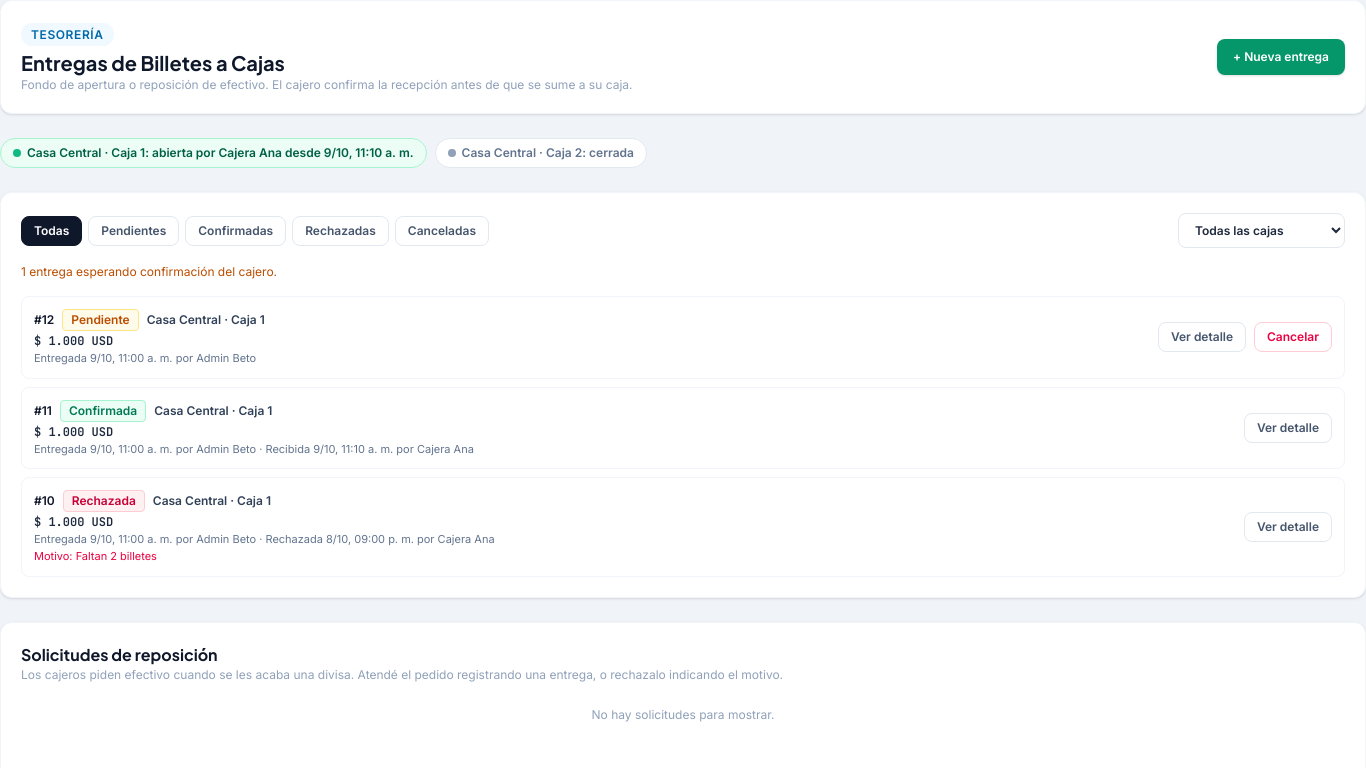
it: CashDeliveries (PI-43) › avisa que hay una moneda activa sin billetes registrados
Expected: the text "#12" is shown, [34,312,54,328]
Click the button "+ Nueva entrega". click: coordinates (1281, 57)
box: [1217,39,1345,75]
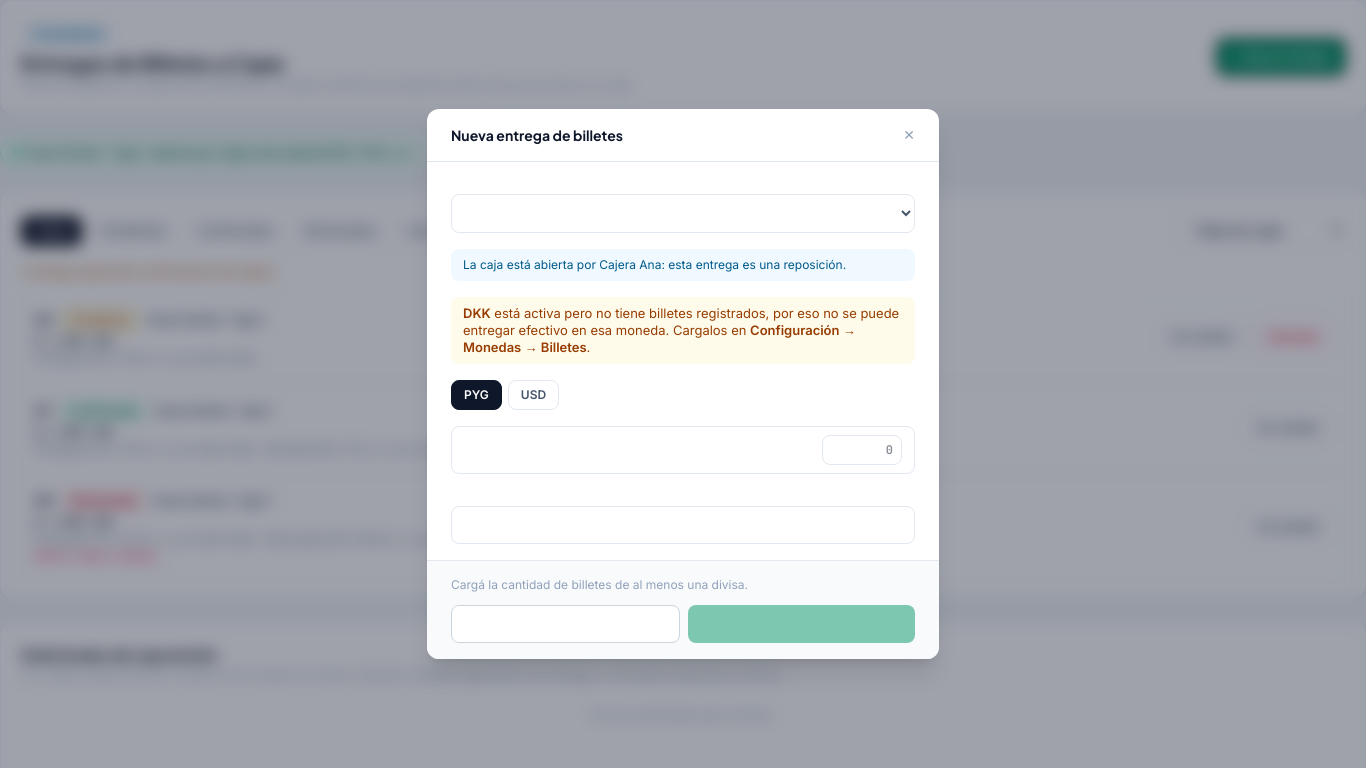
Expected: the text "no tiene billetes registrados" shows "DKK", [463,304,491,320]
Expected: the text "no tiene billetes registrados" shows "Configuración → Monedas → Billetes", [463,322,856,355]
